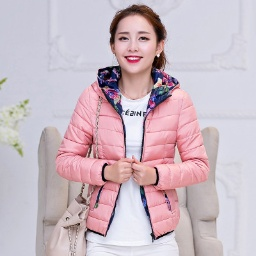face: (100, 1, 177, 92)
